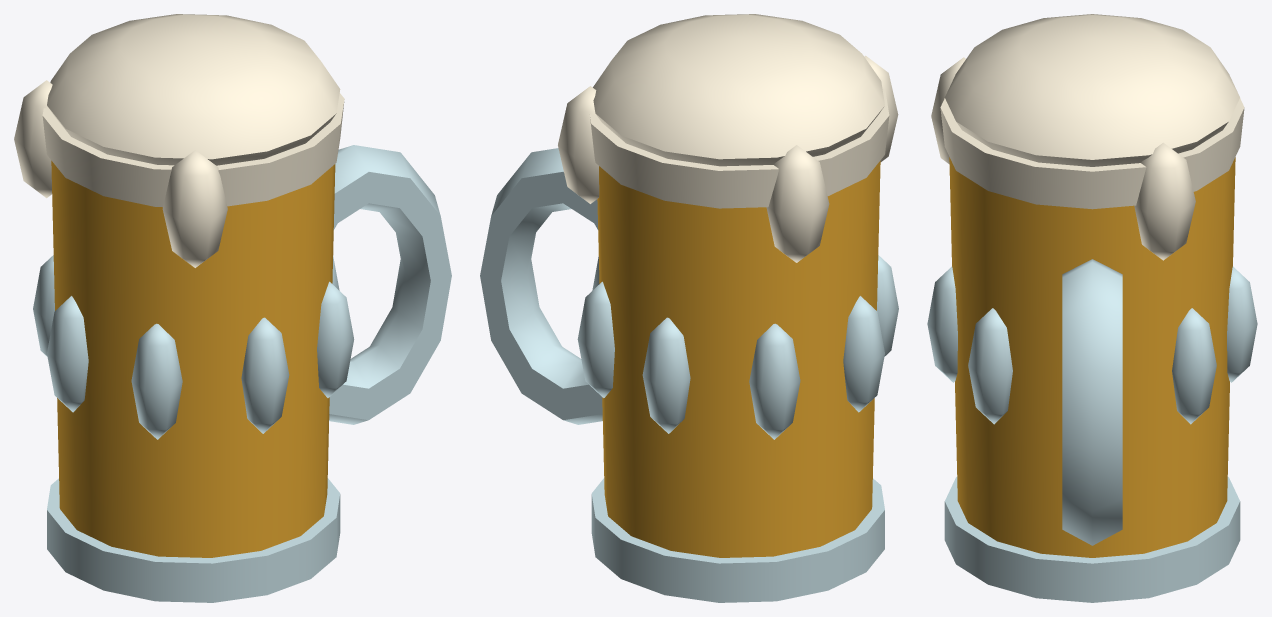
The model's file is caneca_chope.glb.
3 views of the same model, side by side, from view 1: azimuth 30°, elevation 25°; view 2: azimuth 150°, elevation 25°; view 3: azimuth 270°, elevation 25° (orthographic).
Parts seen in each view (by area): view 1: Caneca_Chope; view 2: Caneca_Chope; view 3: Caneca_Chope.
Part boxes in pixels (x1,y1,x2,y2): Caneca_Chope: (14, 14, 451, 602); Caneca_Chope: (480, 14, 898, 602); Caneca_Chope: (927, 14, 1257, 602).
Size of the model in its own units: 0.2091 by 0.255 by 0.152.
